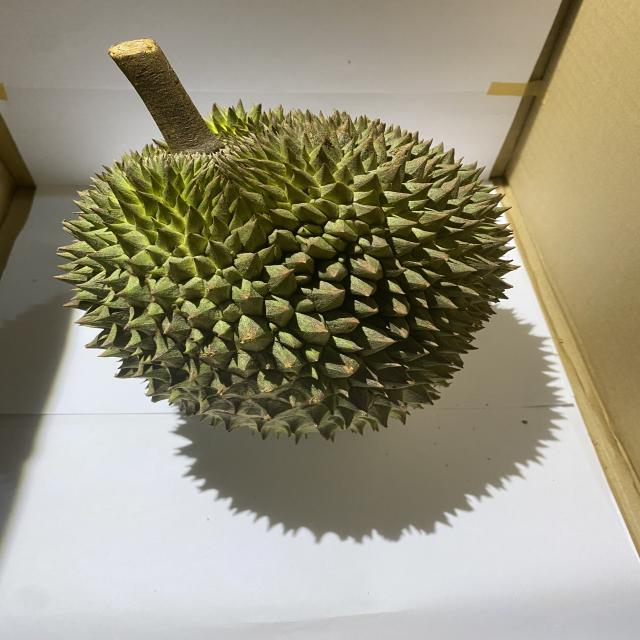immature: (51, 94, 520, 442)
